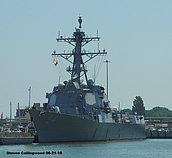MIL_Ship: (29, 25, 148, 142)
